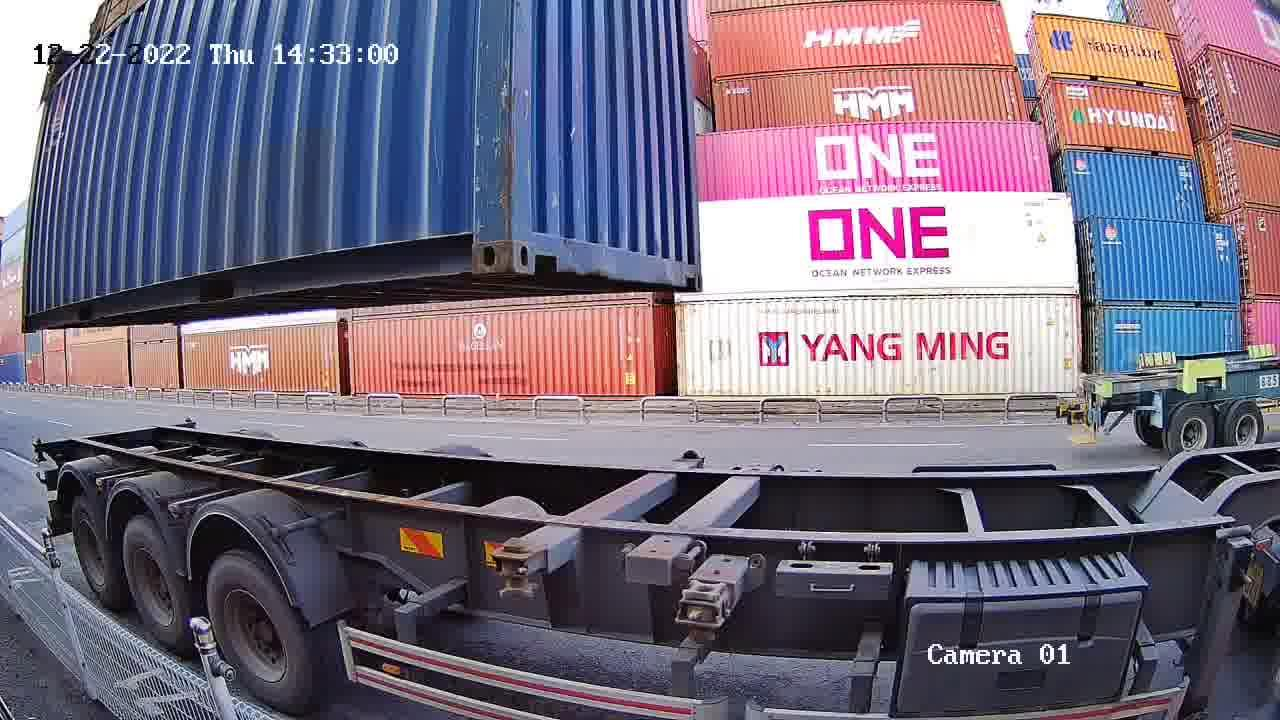Chassis: (496, 456, 703, 577)
Cone: (495, 537, 539, 600), (679, 449, 701, 460)
Hole_L: (512, 197, 569, 272)
Hole_R: (436, 203, 511, 277), (674, 247, 705, 292)
Tire: (207, 558, 313, 710), (125, 521, 184, 642), (72, 500, 118, 599)
